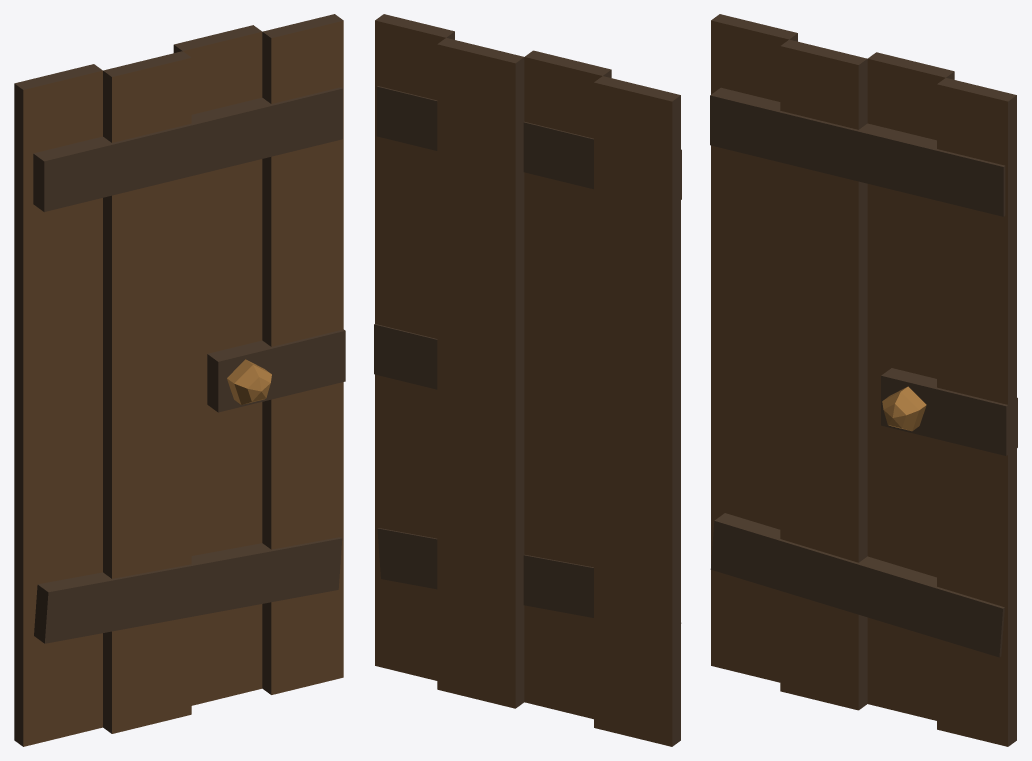
Rendered from door-wood-b.fbx.
3 renders of one model, left to right at view 1: azimuth 30°, elevation 25°; view 2: azimuth 150°, elevation 25°; view 3: azimuth 330°, elevation 25°, orthographic.
Parts seen in each view (by area): view 1: door-wood-b; view 2: door-wood-b; view 3: door-wood-b.
Part boxes in pixels (box(x1,y1,x2,y2)): door-wood-b: box(14, 14, 345, 746); door-wood-b: box(374, 14, 681, 746); door-wood-b: box(710, 14, 1017, 746).
Bounding box in the file's own units: 0.9997 × 2.01 × 0.1977.
